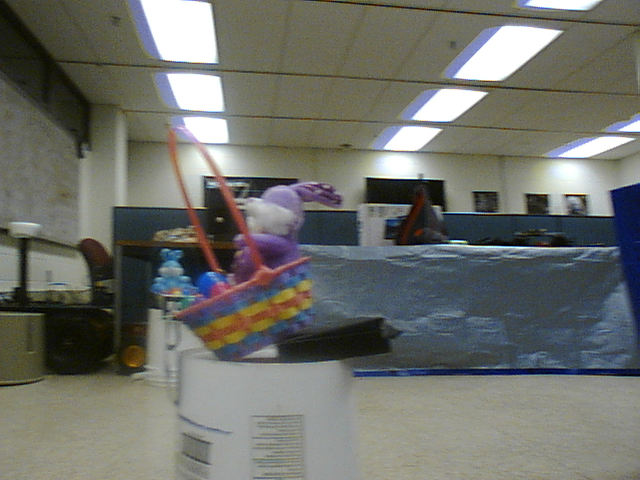bunny: (163, 128, 347, 358), (155, 250, 193, 296)
